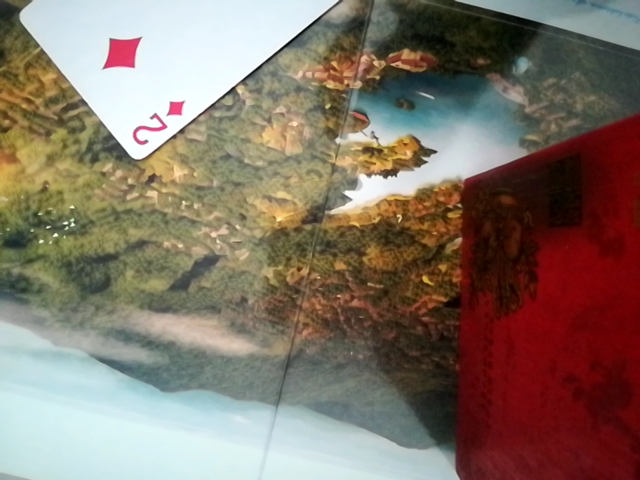fk 2: (6, 0, 362, 164)
